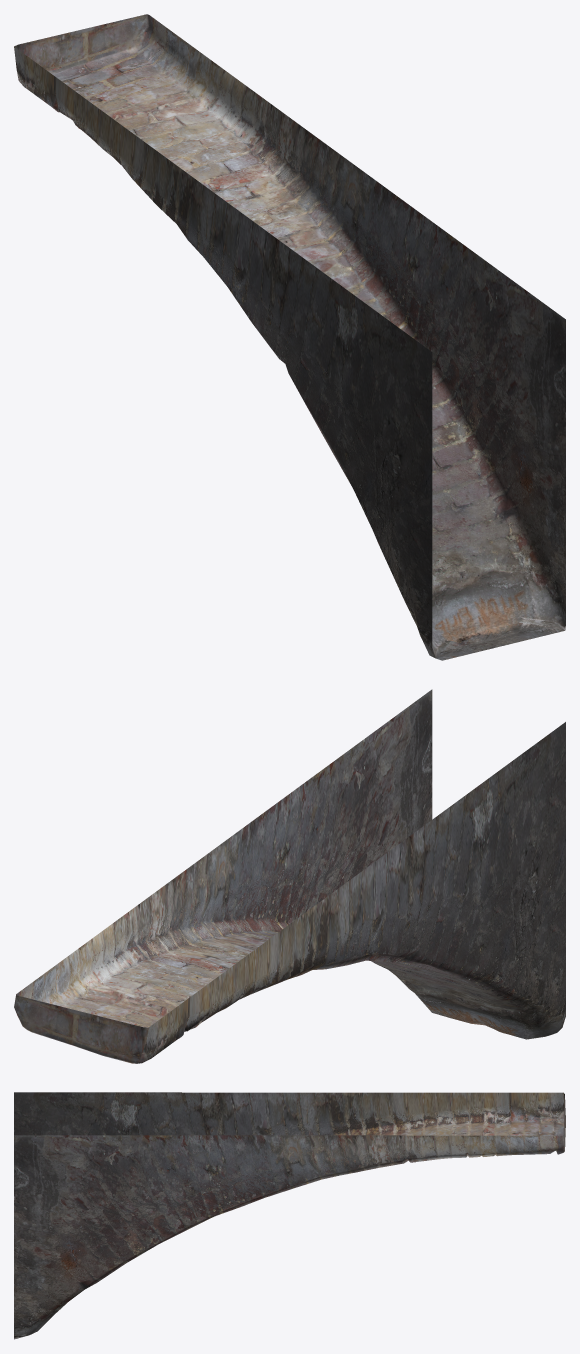
File: SM_CryptArch_01_04.fbx
3 views of the same model, one above another, from view 1: azimuth 30°, elevation 25°; view 2: azimuth 150°, elevation 25°; view 3: azimuth 270°, elevation 25° (orthographic). The views are drawn at different scales.
Visible parts, largest first — view 1: sm_CryptArch_01_04_LOD0; view 2: sm_CryptArch_01_04_LOD0; view 3: sm_CryptArch_01_04_LOD0.
Part boxes in pixels (<box>): sm_CryptArch_01_04_LOD0: <box>14,14,565,660</box>; sm_CryptArch_01_04_LOD0: <box>14,689,565,1063</box>; sm_CryptArch_01_04_LOD0: <box>14,1092,565,1339</box>.
Bounding box in the file's own units: 306 × 60.06 × 126.
